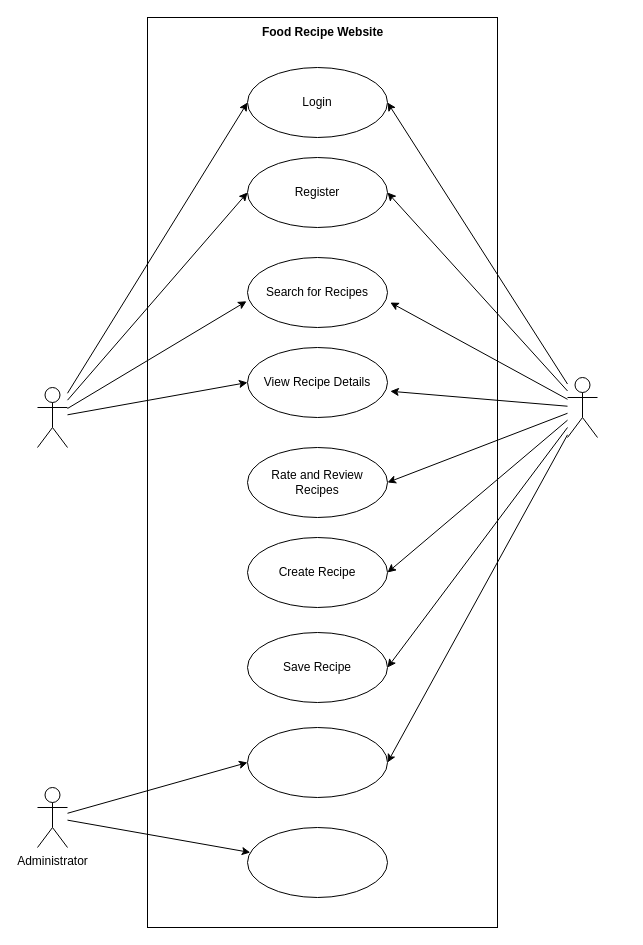
Some shapes in this 643 by 945 pixel diagram are drawn without their labels. The centre of each missing label's shape, as x and y in pixels:
"Guest User" goes at point (52, 417).
"Manage Recipes" goes at point (317, 862).
"Manage User Account" goes at point (317, 762).
"Registered User" goes at point (582, 407).
